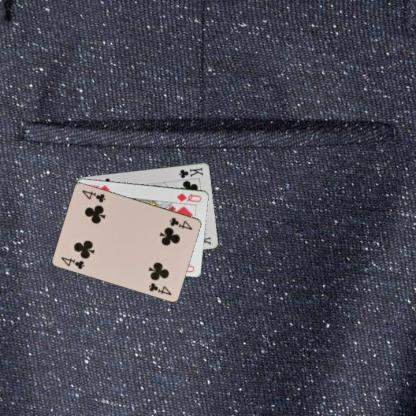4c: (167, 214, 194, 231), (59, 254, 86, 271)
Kc: (176, 165, 204, 179)
Qd: (174, 191, 203, 203)
